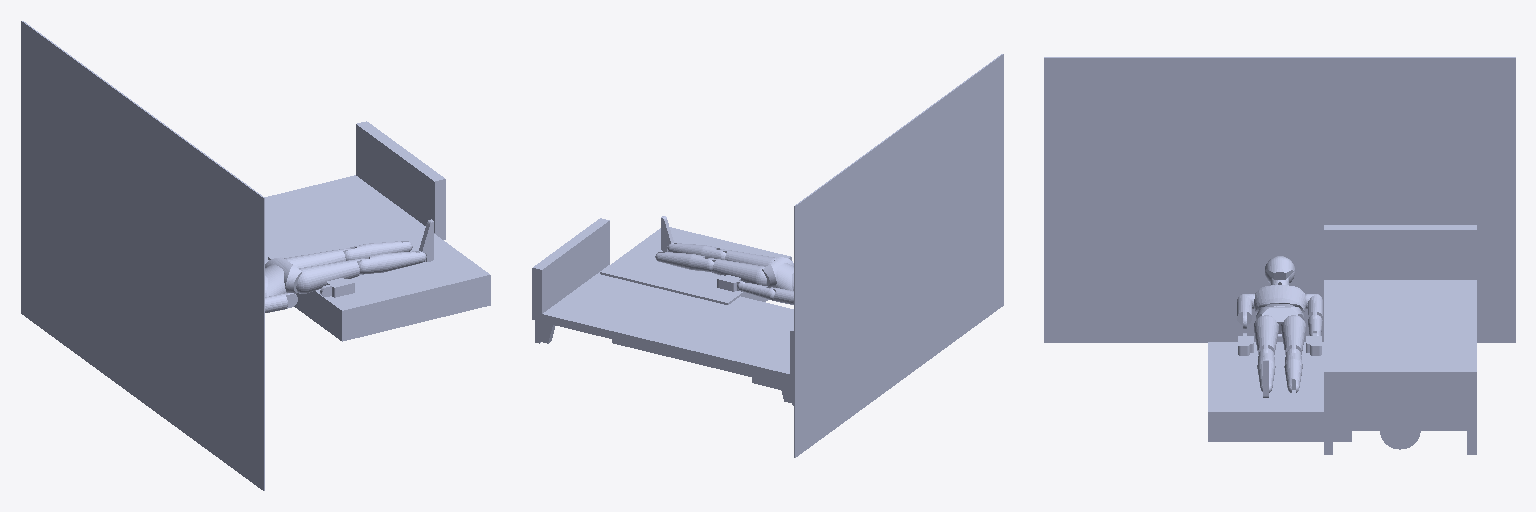
--- What the picture shows (computed from the rendered views, not written in the file) ---
The picture shows the robot from 3 angles, left to right: view 1: azimuth 30°, elevation 25°; view 2: azimuth 150°, elevation 25°; view 3: azimuth 270°, elevation 25°; orthographic projection.
Model bed_and_body_v3 with 28 links and 27 joints (22 revolute, 3 prismatic, 2 fixed), rooted at base_link, posed all joints at 0.
Links seen in each view (by area): view 1: wall_link, bed_frame_link, leg_rest_lower_link, leg_rest_upper_link, quad_right_link, calf_right_link, calf_left_link, quad_left_link, lower_body_link; view 2: wall_link, bed_frame_link, leg_rest_lower_link, leg_rest_upper_link, quad_left_link, calf_left_link, calf_right_link; view 3: wall_link, bed_frame_link, leg_rest_lower_link, leg_rest_upper_link, upper_body_link, quad_left_link, quad_right_link, calf_left_link, head_link.
Link boxes in pixels (x1=…): wall_link: x1=21, y1=21, x2=264, y2=490; bed_frame_link: x1=265, y1=121, x2=445, y2=263; leg_rest_lower_link: x1=320, y1=221, x2=490, y2=328; leg_rest_upper_link: x1=268, y1=244, x2=393, y2=341; quad_right_link: x1=296, y1=258, x2=365, y2=293; calf_right_link: x1=358, y1=251, x2=426, y2=274; calf_left_link: x1=344, y1=241, x2=412, y2=260; quad_left_link: x1=284, y1=248, x2=350, y2=268; lower_body_link: x1=265, y1=257, x2=301, y2=293; wall_link: x1=794, y1=54, x2=1003, y2=457; bed_frame_link: x1=532, y1=218, x2=793, y2=405; leg_rest_lower_link: x1=600, y1=227, x2=745, y2=293; leg_rest_upper_link: x1=683, y1=246, x2=791, y2=304; quad_left_link: x1=708, y1=258, x2=766, y2=285; calf_left_link: x1=655, y1=252, x2=713, y2=271; calf_right_link: x1=667, y1=243, x2=725, y2=259; wall_link: x1=1044, y1=57, x2=1515, y2=342; bed_frame_link: x1=1324, y1=225, x2=1476, y2=454; leg_rest_lower_link: x1=1208, y1=367, x2=1351, y2=441; leg_rest_upper_link: x1=1208, y1=342, x2=1351, y2=366; upper_body_link: x1=1254, y1=285, x2=1305, y2=314; quad_left_link: x1=1281, y1=315, x2=1305, y2=354; quad_right_link: x1=1254, y1=315, x2=1278, y2=354; calf_left_link: x1=1284, y1=348, x2=1302, y2=392; head_link: x1=1265, y1=256, x2=1294, y2=282.
Size in the robot's own frame: 2.33 by 3 by 2 metres.
Meshes: 24 distinct files referenced, 19 mesh visuals loaded (19 binary STL); not drawn: 5 (reference not matched to a file when rendering).

The robot description file, URDF, robot "bed_and_body_v3":
<?xml version="1.0"?>
<robot
  name="bed_and_body_v3">
  <link
    name="base_link">
    <inertial>
      <origin
        xyz="1.07 -1.1433776843867E-16 0.0654891108010717"
        rpy="0 0 0" />
      <mass
        value="5.8260172808288" />
      <inertia
        ixx="1.14927006759014"
        ixy="4.44089209850063E-16"
        ixz="-2.75515108570424E-16"
        iyy="6.70434113225239"
        iyz="-1.34851165646458E-15"
        izz="7.79754704731756" />
    </inertial>
    <visual>
      <origin
        xyz="0 0 0"
        rpy="0 0 0" />
      <geometry>
        <mesh
          filename="package://hrl_base_selection/urdf/bed_and_body_v3_real_expanded/meshes/base_link.STL" />
      </geometry>
      <material
        name="">
        <color
          rgba="0.792156862745098 0.819607843137255 0.933333333333333 1" />
      </material>
    </visual>
    <collision>
      <origin
        xyz="0 0 0"
        rpy="0 0 0" />
      <geometry>
        <mesh
          filename="package://hrl_base_selection/urdf/bed_and_body_v3_real_expanded/meshes/base_link.STL" />
      </geometry>
    </collision>
  </link>
  <link
    name="wall_link">
    <inertial>
      <origin
        xyz="0. 0. 0."
        rpy="0 0 0" />
      <mass
        value="182.783" />
      <inertia
        ixx="14.1727036705024"
        ixy="3.00274731894519E-14"
        ixz="-0.582878793213973"
        iyy="75.8057802285568"
        iyz="9.93663151183257E-16"
        izz="86.6905817538877" />
    </inertial>
    <visual>
      <origin
        xyz="0 0 0"
        rpy="0 0 0" />
      <geometry>
        <mesh
          filename="package://hrl_base_selection/urdf/bed_and_body_v3_real_expanded/meshes/wall.stl" />
      </geometry>
      <material
        name="">
        <color
          rgba="0.792156862745098 0.819607843137255 0.933333333333333 1" />
      </material>
    </visual>
    <collision>
      <origin
        xyz="0 0 0"
        rpy="0 0 0" />
      <geometry>
        <mesh
          filename="package://hrl_base_selection/urdf/bed_and_body_v3_real_expanded/meshes/wall.stl" />
      </geometry>
    </collision>
  </link>
  <joint
    name="origin_wall_joint"
    type="fixed">
    <origin
      xyz="-.12 0. 0"
      rpy="0. 0. 0." />
    <parent
      link="base_link" />
    <child
      link="wall_link" />
    <axis
      xyz="0 0 0" />
  </joint>
  <link
    name="bed_frame_link">
    <inertial>
      <origin
        xyz="1.0399 -0.27375 0.088166"
        rpy="0 0 0" />
      <mass
        value="182.783" />
      <inertia
        ixx="14.1727036705024"
        ixy="3.00274731894519E-14"
        ixz="-0.582878793213973"
        iyy="75.8057802285568"
        iyz="9.93663151183257E-16"
        izz="86.6905817538877" />
    </inertial>
    <visual>
      <origin
        xyz="0 0 0"
        rpy="0 0 0" />
      <geometry>
        <mesh
          filename="package://hrl_base_selection/urdf/bed_and_body_v3_real_expanded/meshes/bed_frame_real_expanded.STL" />
      </geometry>
      <material
        name="">
        <color
          rgba="0.792156862745098 0.819607843137255 0.933333333333333 1" />
      </material>
    </visual>
    <collision>
      <origin
        xyz="0 0 0"
        rpy="0 0 0" />
      <geometry>
        <mesh
          filename="package://hrl_base_selection/urdf/bed_and_body_v3_real_expanded/meshes/bed_frame_link.STL" />
      </geometry>
    </collision>
  </link>
  <joint
    name="tele_legs_joint"
    type="prismatic">
    <origin
      xyz="-0.02 .27375 0.2805"
      rpy="0 0 0" />
    <parent
      link="base_link" />
    <child
      link="bed_frame_link" />
    <axis
      xyz="0 0 1" />
    <limit
      lower="-1"
      upper="1"
      effort="0"
      velocity="0" />
  </joint>
  <link
    name="head_rest_link">
    <visual>
      <origin
        xyz="0 0 0"
        rpy="0 0 0" />
      <geometry>
        <mesh
          filename="package://hrl_base_selection/urdf/bed_and_body_v3_real_expanded/meshes/head_rest_link.STL" />
      </geometry>
      <material
        name="">
        <color
          rgba="0.792156862745098 0.819607843137255 0.933333333333333 1" />
      </material>
    </visual>
    <collision>
      <origin
        xyz="0 0 0"
        rpy="0 0 0" />
      <geometry>
        <mesh
          filename="package://hrl_base_selection/urdf/bed_and_body_v3_real_expanded/meshes/head_rest_link.STL" />
      </geometry>
    </collision>
  </link>
  <joint
    name="head_rest_hinge"
    type="revolute">
    <origin
      xyz="0.775 -.27375 0.26"
      rpy="1.5708 1.0561E-10 3.1416" />
    <parent
      link="bed_frame_link" />
    <child
      link="head_rest_link" />
    <axis
      xyz="0 0 1" />
    <limit
      lower="-2"
      upper="2"
      effort="0"
      velocity="0" />
  </joint>
  <link
    name="head_rotated_to_worldframe_link">
  </link>
  <joint
    name="head_bed_to_worldframe_joint"
    type="revolute">
    <origin
      xyz="0.49949 0.05 0"
      rpy="0. 0. 0." />
    <parent
      link="head_rest_link" />
    <child
      link="head_rotated_to_worldframe_link" />
    <axis
      xyz="0 0 1" />
    <limit
      lower="-2"
      upper="2"
      effort="0"
      velocity="0" />
  </joint>
  <link
    name="head_updown_translation_link">
  </link>
  <joint
    name="head_bed_updown_joint"
    type="prismatic">
    <origin
      xyz="0.0 0.0 0"
      rpy="0.0 0.0 0.0" />
    <parent
      link="head_rotated_to_worldframe_link" />
    <child
      link="head_updown_translation_link" />
    <axis
      xyz="-1 0 0" />
    <limit
      lower="-2"
      upper="2"
      effort="0"
      velocity="0" />
  </joint>
  <link
    name="head_rotated_to_bedframe_link">
  </link>
  <joint
    name="head_bed_to_bedframe_joint"
    type="revolute">
    <origin
      xyz="0.0 0.0 0"
      rpy="0. 0. 0." />
    <parent
      link="head_updown_translation_link" />
    <child
      link="head_rotated_to_bedframe_link" />
    <axis
      xyz="0 0 1" />
    <limit
      lower="-2"
      upper="2"
      effort="0"
      velocity="0" />
  </joint>
  <link
    name="head_leftright_translation_link">
  </link>
  <joint
    name="head_bed_leftright_joint"
    type="prismatic">
    <origin
      xyz="0 0 0"
      rpy="0.0 0.0 1.570796" />
    <parent
      link="head_rotated_to_bedframe_link" />
    <child
      link="head_leftright_translation_link" />
    <axis
      xyz="0 0 1" />
    <limit
      lower="-2"
      upper="2"
      effort="0"
      velocity="0" />
  </joint>
  <link
    name="head_link">
    <inertial>
      <origin
        xyz="0.00931747164111318 -9.91266701204326E-09 0.0105706865051194"
        rpy="0 0 0" />
      <mass
        value="3.9328527892651" />
      <inertia
        ixx="0.0165678861121358"
        ixy="8.90148620513218E-10"
        ixz="-0.0027682732644648"
        iyy="0.0177023015774365"
        iyz="-5.42183952528328E-09"
        izz="0.0166046206450058" />
    </inertial>
    <visual>
      <origin
        xyz="0 0 0"
        rpy="0 0 0" />
      <geometry>
        <mesh
          filename="package://hrl_base_selection/urdf/bed_and_body_v3_real_expanded/meshes/head_link.STL" />
      </geometry>
      <material
        name="">
        <color
          rgba="0.792156862745098 0.819607843137255 0.933333333333333 1" />
      </material>
    </visual>
    <collision>
      <origin
        xyz="0 0 0"
        rpy="0 0 0" />
      <geometry>
        <mesh
          filename="package://hrl_base_selection/urdf/bed_and_body_v3_real_expanded/meshes/head_link.STL" />
      </geometry>
    </collision>
  </link>
  <joint
    name="head_contact_to_head_center"
    type="fixed">
    <origin
      xyz="0.091171 0.037577 0"
      rpy="1.5708 -3.0499E-16 0.2618" />
    <parent
      link="head_leftright_translation_link" />
    <child
      link="head_link" />
    <axis
      xyz="0 0 0" />
  </joint>
  <link
    name="neck_rotation">
    <inertial>
      <origin
        xyz="0.0299911113671753 -1.13479703411912E-09 5.25989263663437E-09"
        rpy="0 0 0" />
      <mass
        value="1.53148702191926" />
      <inertia
        ixx="0.00269322706497261"
        ixy="1.09857620830128E-10"
        ixz="7.58048241070777E-10"
        iyy="0.00564516811473134"
        iyz="9.21844170034423E-09"
        izz="0.00511128582091916" />
    </inertial>
    <visual>
      <origin
        xyz="0 0 0"
        rpy="0 0 0" />
      <geometry>
        <mesh
          filename="package://hrl_base_selection/urdf/bed_and_body_v3_real_expanded/meshes/neck_rotation.STL" />
      </geometry>
      <material
        name="">
        <color
          rgba="0.792156862745098 0.819607843137255 0.933333333333333 1" />
      </material>
    </visual>
    <collision>
      <origin
        xyz="0 0 0"
        rpy="0 0 0" />
      <geometry>
        <mesh
          filename="package://hrl_base_selection/urdf/bed_and_body_v3_real_expanded/meshes/neck_rotation.STL" />
      </geometry>
    </collision>
  </link>
  <joint
    name="head_neck_joint1"
    type="revolute">
    <origin
      xyz="-0.0254 0 -0.08509"
      rpy="-1.5708 1.1345 -3.1416" />
    <parent
      link="head_link" />
    <child
      link="neck_rotation" />
    <axis
      xyz="0 0 1" />
    <limit
      lower="-2"
      upper="2"
      effort="0"
      velocity="0" />
  </joint>
  <link
    name="neck_link">
    <inertial>
      <origin
        xyz="0.0299911113671752 -1.13479703411912E-09 5.2598925958448E-09"
        rpy="0 0 0" />
      <mass
        value="1.53148702191926" />
      <inertia
        ixx="0.00269322706497261"
        ixy="1.09857618011203E-10"
        ixz="7.58048239319453E-10"
        iyy="0.00564516811473135"
        iyz="9.2184417026311E-09"
        izz="0.00511128582091917" />
    </inertial>
    <visual>
      <origin
        xyz="0 0 0"
        rpy="0 0 0" />
      <geometry>
        <mesh
          filename="package://hrl_base_selection/urdf/bed_and_body_v3_real_expanded/meshes/neck_link.STL" />
      </geometry>
      <material
        name="">
        <color
          rgba="0.792156862745098 0.819607843137255 0.933333333333333 1" />
      </material>
    </visual>
    <collision>
      <origin
        xyz="0 0 0"
        rpy="0 0 0" />
      <geometry>
        <mesh
          filename="package://hrl_base_selection/urdf/bed_and_body_v3_real_expanded/meshes/neck_link.STL" />
      </geometry>
    </collision>
  </link>
  <joint
    name="head_neck_joint2"
    type="revolute">
    <origin
      xyz="0 0 0"
      rpy="0 3.1554E-30 0" />
    <parent
      link="neck_rotation" />
    <child
      link="neck_link" />
    <axis
      xyz="0 0 1" />
    <limit
      lower="-2"
      upper="2"
      effort="0"
      velocity="0" />
  </joint>
  <link
    name="upper_body_link">
    <inertial>
      <origin
        xyz="0.158709266111028 -2.77439784790445E-06 1.07349517852832E-06"
        rpy="0 0 0" />
      <mass
        value="10.994324812456" />
      <inertia
        ixx="0.0988263493770442"
        ixy="1.38503182626169E-06"
        ixz="-6.9051458787949E-07"
        iyy="0.107887273916327"
        iyz="1.87457468166473E-07"
        izz="0.0771158536159493" />
    </inertial>
    <visual>
      <origin
        xyz="0 0 0"
        rpy="0 0 0" />
      <geometry>
        <mesh
          filename="package://hrl_base_selection/urdf/bed_and_body_v3_real_expanded/meshes/upper_body_link.STL" />
      </geometry>
      <material
        name="">
        <color
          rgba="0.792156862745098 0.819607843137255 0.933333333333333 1" />
      </material>
    </visual>
    <collision>
      <origin
        xyz="0 0 0"
        rpy="0 0 0" />
      <geometry>
        <mesh
          filename="package://hrl_base_selection/urdf/bed_and_body_v3_real_expanded/meshes/upper_body_link.STL" />
      </geometry>
    </collision>
  </link>
  <joint
    name="neck_body_joint"
    type="revolute">
    <origin
      xyz="0.07239 0 0"
      rpy="-8.8242E-17 -8.2927E-14 0.66506" />
    <parent
      link="neck_link" />
    <child
      link="upper_body_link" />
    <axis
      xyz="0 0 -1" />
    <limit
      lower="-2"
      upper="2"
      effort="0"
      velocity="0" />
  </joint>
  <link
    name="mid_body_link">
    <inertial>
      <origin
        xyz="-0.0123598486303793 -2.47973091949127E-07 4.77082923404006E-06"
        rpy="0 0 0" />
      <mass
        value="6.7659491084038" />
      <inertia
        ixx="0.0508733259634872"
        ixy="-3.30920427328747E-07"
        ixz="-1.38996093328425E-06"
        iyy="0.0489774373986986"
        iyz="-1.12269337166179E-05"
        izz="0.0317417004953391" />
    </inertial>
    <visual>
      <origin
        xyz="0 0 0"
        rpy="0 0 0" />
      <geometry>
        <mesh
          filename="package://hrl_base_selection/urdf/bed_and_body_v3_real_expanded/meshes/mid_body_link.STL" />
      </geometry>
      <material
        name="">
        <color
          rgba="0.792156862745098 0.819607843137255 0.933333333333333 1" />
      </material>
    </visual>
    <collision>
      <origin
        xyz="0 0 0"
        rpy="0 0 0" />
      <geometry>
        <mesh
          filename="package://hrl_base_selection/urdf/bed_and_body_v3_real_expanded/meshes/mid_body_link.STL" />
      </geometry>
    </collision>
  </link>
  <joint
    name="upper_mid_body_joint"
    type="revolute">
    <origin
      xyz="0.35052 0 0"
      rpy="2.8327E-14 7.7949E-14 0.34907" />
    <parent
      link="upper_body_link" />
    <child
      link="mid_body_link" />
    <axis
      xyz="0 0 -1" />
    <limit
      lower="-2"
      upper="2"
      effort="0"
      velocity="0" />
  </joint>
  <link
    name="lower_body_link">
    <inertial>
      <origin
        xyz="-0.0424892964347593 -1.55212564689755E-07 -3.05517167826124E-08"
        rpy="0 0 0" />
      <mass
        value="3.76095443118537" />
      <inertia
        ixx="0.0264188029132303"
        ixy="5.26534020954018E-07"
        ixz="1.13275130192356E-08"
        iyy="0.021880217675706"
        iyz="6.6476429005472E-06"
        izz="0.0115760285735275" />
    </inertial>
    <visual>
      <origin
        xyz="0 0 0"
        rpy="0 0 0" />
      <geometry>
        <mesh
          filename="package://hrl_base_selection/urdf/bed_and_body_v3_real_expanded/meshes/lower_body_link.STL" />
      </geometry>
      <material
        name="">
        <color
          rgba="0.792156862745098 0.819607843137255 0.933333333333333 1" />
      </material>
    </visual>
    <collision>
      <origin
        xyz="0 0 0"
        rpy="0 0 0" />
      <geometry>
        <mesh
          filename="package://hrl_base_selection/urdf/bed_and_body_v3_real_expanded/meshes/lower_body_link.STL" />
      </geometry>
    </collision>
  </link>
  <joint
    name="mid_lower_body_joint"
    type="revolute">
    <origin
      xyz="0.15113 0 0"
      rpy="-4.3091E-16 1.669E-15 -0.57779" />
    <parent
      link="mid_body_link" />
    <child
      link="lower_body_link" />
    <axis
      xyz="0 0 -1" />
    <limit
      lower="-2"
      upper="2"
      effort="0"
      velocity="0" />
  </joint>
  <link
    name="quad_left_link">
    <inertial>
      <origin
        xyz="0.135870836223123 0.036406480838746 1.20320420293751E-14"
        rpy="0 0 0" />
      <mass
        value="6.89674952703915" />
      <inertia
        ixx="0.0241142535313263"
        ixy="0.0272592576621165"
        ixz="-8.25751406148771E-11"
        iyy="0.118543092031703"
        iyz="3.08210707771496E-10"
        izz="0.126021276865764" />
    </inertial>
    <visual>
      <origin
        xyz="0 0 0"
        rpy="0 0 0" />
      <geometry>
        <mesh
          filename="package://hrl_base_selection/urdf/bed_and_body_v3_real_expanded/meshes/quad_left_link.STL" />
      </geometry>
      <material
        name="">
        <color
          rgba="0.792156862745098 0.819607843137255 0.933333333333333 1" />
      </material>
    </visual>
    <collision>
      <origin
        xyz="0 0 0"
        rpy="0 0 0" />
      <geometry>
        <mesh
          filename="package://hrl_base_selection/urdf/bed_and_body_v3_real_expanded/meshes/quad_left_link.STL" />
      </geometry>
    </collision>
  </link>
  <joint
    name="body_quad_left_joint"
    type="revolute">
    <origin
      xyz="0.05207 0 -0.08636"
      rpy="-3.1554E-30 -3.1554E-30 -2.7756E-17" />
    <parent
      link="lower_body_link" />
    <child
      link="quad_left_link" />
    <axis
      xyz="0 0 1" />
    <limit
      lower="-3."
      upper="3."
      effort="0"
      velocity="0" />
  </joint>
  <link
    name="calf_left_link">
    <inertial>
      <origin
        xyz="-0.180906642816524 -0.0139713255979246 1.60067792354113E-12"
        rpy="0 0 0" />
      <mass
        value="3.39536669784164" />
      <inertia
        ixx="0.0049226177583511"
        ixy="0.00333413184068126"
        ixz="1.26232091450053E-12"
        iyy="0.0478368760783845"
        iyz="-4.13932285075363E-12"
        izz="0.0478732548846709" />
    </inertial>
    <visual>
      <origin
        xyz="0 0 0"
        rpy="0 0 0" />
      <geometry>
        <mesh
          filename="package://hrl_base_selection/urdf/bed_and_body_v3_real_expanded/meshes/calf_left_link.STL" />
      </geometry>
      <material
        name="">
        <color
          rgba="0.792156862745098 0.819607843137255 0.933333333333333 1" />
      </material>
    </visual>
    <collision>
      <origin
        xyz="0 0 0"
        rpy="0 0 0" />
      <geometry>
        <mesh
          filename="package://hrl_base_selection/urdf/bed_and_body_v3_real_expanded/meshes/calf_left_link.STL" />
      </geometry>
    </collision>
  </link>
  <joint
    name="quad_calf_left_joint"
    type="revolute">
    <origin
      xyz="0.41218 0.11044 0"
      rpy="3.1416 8.5469E-14 -2.8798" />
    <parent
      link="quad_left_link" />
    <child
      link="calf_left_link" />
    <axis
      xyz="0 0 1" />
    <limit
      lower="-3."
      upper="3."
      effort="0"
      velocity="0" />
  </joint>
  <link
    name="foot_left_link">
    <inertial>
      <origin
        xyz="-0.0475610965067932 0.0816676483447464 -4.16333634234434E-17"
        rpy="0 0 0" />
      <mass
        value="0.615189243278472" />
      <inertia
        ixx="0.00304936402573348"
        ixy="-0.000154899374275574"
        ixz="1.7446046542978E-19"
        iyy="0.000412328810634253"
        iyz="-3.97105362266834E-20"
        izz="0.00332455031530266" />
    </inertial>
    <visual>
      <origin
        xyz="0 0 0"
        rpy="0 0 0" />
      <geometry>
        <mesh
          filename="package://hrl_base_selection/urdf/bed_and_body_v3_real_expanded/meshes/foot_left_link.STL" />
      </geometry>
      <material
        name="">
        <color
          rgba="0.792156862745098 0.819607843137255 0.933333333333333 1" />
      </material>
    </visual>
    <collision>
      <origin
        xyz="0 0 0"
        rpy="0 0 0" />
      <geometry>
        <mesh
          filename="package://hrl_base_selection/urdf/bed_and_body_v3_real_expanded/meshes/foot_left_link.STL" />
      </geometry>
    </collision>
  </link>
  <joint
    name="calf_foot_left_joint"
    type="revolute">
    <origin
      xyz="-0.41279 -0.03188 0"
      rpy="2.4608E-16 9.411E-16 0.077076" />
    <parent
      link="calf_left_link" />
    <child
      link="foot_left_link" />
    <axis
      xyz="0 0 1" />
    <limit
      lower="-3."
      upper="3."
      effort="0"
      velocity="0" />
  </joint>
  <link
    name="quad_right_link">
    <inertial>
      <origin
        xyz="0.13587083622245 0.0364064808391208 1.19904086659517E-14"
        rpy="0 0 0" />
      <mass
        value="6.89674952703915" />
      <inertia
        ixx="0.024114253531194"
        ixy="0.0272592576618873"
        ixz="-8.2575179988774E-11"
        iyy="0.118543092031835"
        iyz="3.08210697239393E-10"
        izz="0.126021276865764" />
    </inertial>
    <visual>
      <origin
        xyz="0 0 0"
        rpy="0 0 0" />
      <geometry>
        <mesh
          filename="package://hrl_base_selection/urdf/bed_and_body_v3_real_expanded/meshes/quad_right_link.STL" />
      </geometry>
      <material
        name="">
        <color
          rgba="0.792156862745098 0.819607843137255 0.933333333333333 1" />
      </material>
    </visual>
    <collision>
      <origin
        xyz="0 0 0"
        rpy="0 0 0" />
      <geometry>
        <mesh
          filename="package://hrl_base_selection/urdf/bed_and_body_v3_real_expanded/meshes/quad_right_link.STL" />
      </geometry>
    </collision>
  </link>
  <joint
    name="body_quad_right_joint"
    type="revolute">
    <origin
      xyz="0.05207 0 0.08636"
      rpy="-3.1554E-30 -3.1554E-30 -2.7756E-17" />
    <parent
      link="lower_body_link" />
    <child
      link="quad_right_link" />
    <axis
      xyz="0 0 1" />
    <limit
      lower="-3"
      upper="3"
      effort="0"
      velocity="0" />
  </joint>
  <link
    name="calf_right_link">
    <inertial>
      <origin
        xyz="-0.180906642816537 -0.0139713255970793 1.60067792354113E-12"
        rpy="0 0 0" />
      <mass
        value="3.39536669784164" />
      <inertia
        ixx="0.00492261775832246"
        ixy="0.00333413184049699"
        ixz="1.26236389002121E-12"
        iyy="0.0478368760784132"
        iyz="-4.13931941107381E-12"
        izz="0.0478732548846708" />
    </inertial>
    <visual>
      <origin
        xyz="0 0 0"
        rpy="0 0 0" />
      <geometry>
        <mesh
          filename="package://hrl_base_selection/urdf/bed_and_body_v3_real_expanded/meshes/calf_right_link.STL" />
      </geometry>
      <material
        name="">
        <color
          rgba="0.792156862745098 0.819607843137255 0.933333333333333 1" />
      </material>
    </visual>
    <collision>
      <origin
        xyz="0 0 0"
        rpy="0 0 0" />
      <geometry>
        <mesh
          filename="package://hrl_base_selection/urdf/bed_and_body_v3_real_expanded/meshes/calf_right_link.STL" />
      </geometry>
    </collision>
  </link>
  <joint
    name="quad_calf_right_joint"
    type="revolute">
    <origin
      xyz="0.41218 0.11044 0"
      rpy="3.1416 8.5225E-14 -2.8798" />
    <parent
      link="quad_right_link" />
    <child
      link="calf_right_link" />
    <axis
      xyz="0 0 1" />
    <limit
      lower="-3"
      upper="3"
      effort="0"
      velocity="0" />
  </joint>
  <link
    name="foot_right_link">
    <inertial>
      <origin
        xyz="-0.0475610965067859 0.0816676483447651 1.38777878078145E-17"
        rpy="0 0 0" />
      <mass
        value="0.615189243278473" />
      <inertia
        ixx="0.00304936402573348"
        ixy="-0.000154899374275576"
        ixz="-2.68019252719947E-19"
        iyy="0.000412328810634254"
        iyz="3.53080400658611E-18"
        izz="0.00332455031530267" />
    </inertial>
    <visual>
      <origin
        xyz="0 0 0"
        rpy="0 0 0" />
      <geometry>
        <mesh
          filename="package://hrl_base_selection/urdf/bed_and_body_v3_real_expanded/meshes/foot_right_link.STL" />
      </geometry>
      <material
        name="">
        <color
          rgba="0.792156862745098 0.819607843137255 0.933333333333333 1" />
      </material>
    </visual>
    <collision>
      <origin
        xyz="0 0 0"
        rpy="0 0 0" />
      <geometry>
        <mesh
          filename="package://hrl_base_selection/urdf/bed_and_body_v3_real_expanded/meshes/foot_right_link.STL" />
      </geometry>
    </collision>
  </link>
  <joint
    name="calf_foot_right_joint"
    type="revolute">
    <origin
      xyz="-0.41279 -0.03188 0"
      rpy="3.3137E-27 3.7799E-26 0.077076" />
    <parent
      link="calf_right_link" />
    <child
      link="foot_right_link" />
    <axis
      xyz="0 0 1" />
    <limit
      lower="-3"
      upper="3"
      effort="0"
      velocity="0" />
  </joint>
  <link
    name="arm_left_link">
    <inertial>
      <origin
        xyz="0.1001623892808 -0.00376860746206564 -0.0415301013139193"
        rpy="0 0 0" />
      <mass
        value="2.60960654017703" />
      <inertia
        ixx="0.00404950781774846"
        ixy="-0.000794518553713614"
        ixz="-0.00213077537777598"
        iyy="0.0251366223518226"
        iyz="8.01649819245336E-05"
        izz="0.0243099855919405" />
    </inertial>
    <visual>
      <origin
        xyz="0 0 0"
        rpy="0 0 0" />
      <geometry>
        <mesh
          filename="package://hrl_base_selection/urdf/bed_and_body_v3_real_expanded/meshes/arm_left_link.STL" />
      </geometry>
      <material
        name="">
        <color
          rgba="0.792156862745098 0.819607843137255 0.933333333333333 1" />
      </material>
    </visual>
    <collision>
      <origin
        xyz="0 0 0"
        rpy="0 0 0" />
      <geometry>
        <mesh
          filename="package://hrl_base_selection/urdf/bed_and_body_v3_real_expanded/meshes/arm_left_link.STL" />
      </geometry>
    </collision>
  </link>
  <joint
    name="body_arm_left_joint"
    type="revolute">
    <origin
      xyz="0.09652 0 -0.17526"
      rpy="2.6872E-15 8.287E-14 0.033074" />
    <parent
      link="upper_body_link" />
    <child
      link="arm_left_link" />
    <axis
      xyz="0 0 1" />
    <limit
      lower="-3"
      upper="3"
      effort="0"
      velocity="0" />
  </joint>
  <link
    name="forearm_left_link">
    <inertial>
      <origin
        xyz="0.106228215345525 -1.91191507070698E-12 0"
        rpy="0 0 0" />
      <mass
        value="1.32173737819403" />
      <inertia
        ixx="0.00119534139517087"
        ixy="-1.35159335608086E-13"
        ixz="-5.04149881322934E-19"
        iyy="0.00870475374464507"
        iyz="1.19370114943691E-09"
        izz="0.00856399030741715" />
    </inertial>
    <visual>
      <origin
        xyz="0 0 0"
        rpy="0 0 0" />
      <geometry>
        <mesh
          filename="package://hrl_base_selection/urdf/bed_and_body_v3_real_expanded/meshes/forearm_left_link.STL" />
      </geometry>
      <material
        name="">
        <color
          rgba="0.792156862745098 0.819607843137255 0.933333333333333 1" />
      </material>
    </visual>
    <collision>
      <origin
        xyz="0 0 0"
        rpy="0 0 0" />
      <geometry>
        <mesh
          filename="package://hrl_base_selection/urdf/bed_and_body_v3_real_expanded/meshes/forearm_left_link.STL" />
      </geometry>
    </collision>
  </link>
  <joint
    name="arm_forearm_left_joint"
    type="revolute">
    <origin
      xyz="0.28174 -0.0106 -0.04953"
      rpy="1.1849E-16 -8.3419E-14 -1.6268E-27" />
    <parent
      link="arm_left_link" />
    <child
      link="forearm_left_link" />
    <axis
      xyz="0 0 1" />
    <limit
      lower="-3"
      upper="3"
      effort="0"
      velocity="0" />
  </joint>
  <link
    name="hand_left_link">
    <inertial>
      <origin
        xyz="0.0980143408405634 -1.86517468137026E-12 0.0049795365316434"
        rpy="0 0 0" />
      <mass
        value="1.1356241768054" />
      <inertia
        ixx="0.00131058345181311"
        ixy="-4.85702000140823E-14"
        ixz="-9.6566899557011E-05"
        iyy="0.00386297813592635"
        iyz="1.8376914107142E-15"
        izz="0.00343338240819095" />
    </inertial>
    <visual>
      <origin
        xyz="0 0 0"
        rpy="0 0 0" />
      <geometry>
        <mesh
          filename="package://hrl_base_selection/urdf/bed_and_body_v3_real_expanded/meshes/hand_left_link.STL" />
      </geometry>
      <material
        name="">
        <color
          rgba="0.792156862745098 0.819607843137255 0.933333333333333 1" />
      </material>
    </visual>
    <collision>
      <origin
        xyz="0 0 0"
        rpy="0 0 0" />
      <geometry>
        <mesh
          filename="package://hrl_base_selection/urdf/bed_and_body_v3_real_expanded/meshes/hand_left_link.STL" />
      </geometry>
    </collision>
  </link>
  <joint
    name="forearm_hand_left_joint"
    type="revolute">
    <origin
      xyz="0.25146 0 0"
      rpy="1.3447E-16 8.3999E-14 1.6283E-27" />
    <parent
      link="forearm_left_link" />
    <child
      link="hand_left_link" />
    <axis
      xyz="0 0 1" />
    <limit
      lower="-3"
      upper="3"
      effort="0"
      velocity="0" />
  </joint>
  <link
    name="arm_right_link">
    <inertial>
      <origin
        xyz="0.100233262071747 3.52074113196821E-08 0.041530101413327"
        rpy="0 0 0" />
      <mass
        value="2.60960651501635" />
      <inertia
        ixx="0.00401961437786645"
        ixy="-7.60885930854E-10"
        ixz="0.00213228273829607"
        iyy="0.0251665155968144"
        iyz="-4.35824513311461E-09"
        izz="0.0243099854332681" />
    </inertial>
    <visual>
      <origin
        xyz="0 0 0"
        rpy="0 0 0" />
      <geometry>
        <mesh
          filename="package://hrl_base_selection/urdf/bed_and_body_v3_real_expanded/meshes/arm_right_link.STL" />
      </geometry>
      <material
        name="">
        <color
          rgba="0.792156862745098 0.819607843137255 0.933333333333333 1" />
      </material>
    </visual>
    <collision>
      <origin
        xyz="0 0 0"
        rpy="0 0 0" />
      <geometry>
        <mesh
          filename="package://hrl_base_selection/urdf/bed_and_body_v3_real_expanded/meshes/arm_right_link.STL" />
      </geometry>
    </collision>
  </link>
  <joint
    name="body_arm_right_joint"
    type="revolute">
    <origin
      xyz="0.09652 0 0.17526"
      rpy="-3.0757E-16 8.2843E-14 -0.0045332" />
    <parent
      link="upper_body_link" />
    <child
      link="arm_right_link" />
    <axis
      xyz="0 0 1" />
    <limit
      lower="-3"
      upper="3"
      effort="0"
      velocity="0" />
  </joint>
  <link
    name="forearm_right_link">
    <inertial>
      <origin
        xyz="0.106228216482346 -1.30587407554117E-09 -9.51088152678636E-10"
        rpy="0 0 0" />
      <mass
        value="1.32173736893606" />
      <inertia
        ixx="0.00119534120618663"
        ixy="1.414727832101E-10"
        ixz="1.35038570191339E-10"
        iyy="0.00870475371023631"
        iyz="1.17395654858625E-09"
        izz="0.00856399012619121" />
    </inertial>
    <visual>
      <origin
        xyz="0 0 0"
        rpy="0 0 0" />
      <geometry>
        <mesh
          filename="package://hrl_base_selection/urdf/bed_and_body_v3_real_expanded/meshes/forearm_right_link.STL" />
      </geometry>
      <material
        name="">
        <color
          rgba="0.792156862745098 0.819607843137255 0.933333333333333 1" />
      </material>
    </visual>
    <collision>
      <origin
        xyz="0 0 0"
        rpy="0 0 0" />
      <geometry>
        <mesh
          filename="package://hrl_base_selection/urdf/bed_and_body_v3_real_expanded/meshes/forearm_right_link.STL" />
      </geometry>
    </collision>
  </link>
  <joint
    name="arm_forearm_right_joint"
    type="revolute">
    <origin
      xyz="0.28194 0 0.04953"
      rpy="2.6089E-19 -8.3342E-14 0.037607" />
    <parent
      link="arm_right_link" />
    <child
      link="forearm_right_link" />
    <axis
      xyz="0 0 1" />
    <limit
      lower="-3"
      upper="3"
      effort="0"
      velocity="0" />
  </joint>
  <link
    name="hand_right_link">
    <inertial>
      <origin
        xyz="0.0980143408405629 -2.15505391309989E-12 -0.00497953653164337"
        rpy="0 0 0" />
      <mass
        value="1.13562417680541" />
      <inertia
        ixx="0.00131058345181312"
        ixy="-5.61198127715408E-14"
        ixz="9.65668995570131E-05"
        iyy="0.00386297813592636"
        iyz="-2.12313391417147E-15"
        izz="0.00343338240819096" />
    </inertial>
    <visual>
      <origin
        xyz="0 0 0"
        rpy="0 0 0" />
      <geometry>
        <mesh
          filename="package://hrl_base_selection/urdf/bed_and_body_v3_real_expanded/meshes/hand_right_link.STL" />
      </geometry>
      <material
        name="">
        <color
          rgba="0.792156862745098 0.819607843137255 0.933333333333333 1" />
      </material>
    </visual>
    <collision>
      <origin
        xyz="0 0 0"
        rpy="0 0 0" />
      <geometry>
        <mesh
          filename="package://hrl_base_selection/urdf/bed_and_body_v3_real_expanded/meshes/hand_right_link.STL" />
      </geometry>
    </collision>
  </link>
  <joint
    name="forearm_hand_right_joint"
    type="revolute">
    <origin
      xyz="0.25146 0 0"
      rpy="1.9364E-14 8.3335E-14 1.6151E-27" />
    <parent
      link="forearm_right_link" />
    <child
      link="hand_right_link" />
    <axis
      xyz="0 0 1" />
    <limit
      lower="-3"
      upper="3"
      effort="0"
      velocity="0" />
  </joint>
  <link
    name="leg_rest_upper_link">
    <inertial>
      <origin
        xyz="0.184999999999909 0.105000000000441 -2.76269761501025E-16"
        rpy="0 0 0" />
      <mass
        value="71.0955" />
      <inertia
        ixx="5.221520128125"
        ixy="-6.98374142907244E-13"
        ixz="-6.34687481067045E-16"
        iyy="5.771325328125"
        iyz="-1.36920550145777E-16"
        izz="1.072357125" />
    </inertial>
    <visual>
      <origin
        xyz="0 0 0"
        rpy="0 0 0" />
      <geometry>
        <mesh
          filename="package://hrl_base_selection/urdf/bed_and_body_v3_real_expanded/meshes/leg_rest_upper_link.STL" />
      </geometry>
      <material
        name="">
        <color
          rgba="0.792156862745098 0.819607843137255 0.933333333333333 1" />
      </material>
    </visual>
    <collision>
      <origin
        xyz="0 0 0"
        rpy="0 0 0" />
      <geometry>
        <mesh
          filename="package://hrl_base_selection/urdf/bed_and_body_v3_real_expanded/meshes/leg_rest_upper_link.STL" />
      </geometry>
    </collision>
  </link>
  <joint
    name="leg_rest_upper_joint"
    type="revolute">
    <origin
      xyz="1.055 -0.27375 0.05"
      rpy="1.5708 2.1987E-11 3.9465E-16" />
    <parent
      link="bed_frame_link" />
    <child
      link="leg_rest_upper_link" />
    <axis
      xyz="0 0 1" />
    <limit
      lower="-3"
      upper="3"
      effort="0"
      velocity="0" />
  </joint>
  <link
    name="leg_rest_lower_link">
    <inertial>
      <origin
        xyz="0.345000000000193 0.10499999999918 -5.70451144183548E-17"
        rpy="0 0 0" />
      <mass
        value="132.5835" />
      <inertia
        ixx="9.73742942812501"
        ixy="9.56539519154387E-17"
        ixz="2.44106387255003E-16"
        iyy="14.510435428125"
        iyz="1.11598435800825E-16"
        izz="5.747494725" />
    </inertial>
    <visual>
      <origin
        xyz="0 0 0"
        rpy="0 0 0" />
      <geometry>
        <mesh
          filename="package://hrl_base_selection/urdf/bed_and_body_v3_real_expanded/meshes/leg_rest_lower_link.STL" />
      </geometry>
      <material
        name="">
        <color
          rgba="0.792156862745098 0.819607843137255 0.933333333333333 1" />
      </material>
    </visual>
    <collision>
      <origin
        xyz="0 0 0"
        rpy="0 0 0" />
      <geometry>
        <mesh
          filename="package://hrl_base_selection/urdf/bed_and_body_v3_real_expanded/meshes/leg_rest_lower_link.STL" />
      </geometry>
    </collision>
  </link>
  <joint
    name="leg_rest_upper_lower_joint"
    type="revolute">
    <origin
      xyz="0.37 0 0"
      rpy="-3.7123E-16 5.9121E-16 3.7854E-11" />
    <parent
      link="leg_rest_upper_link" />
    <child
      link="leg_rest_lower_link" />
    <axis
      xyz="0 0 1" />
    <limit
      lower="-3"
      upper="3"
      effort="0"
      velocity="0" />
  </joint>
</robot>
